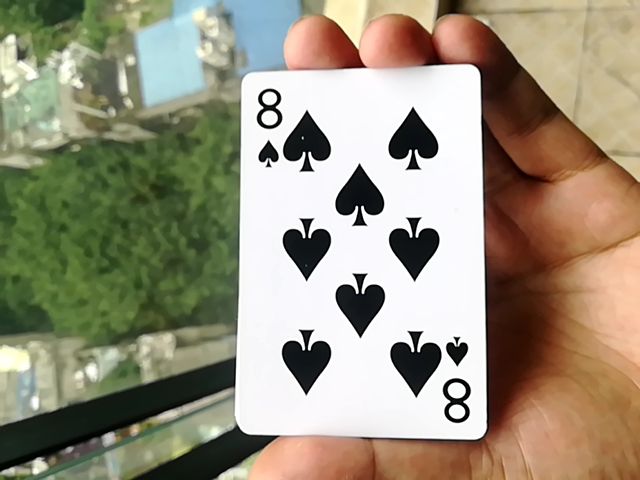ht 8: (234, 51, 471, 446)
